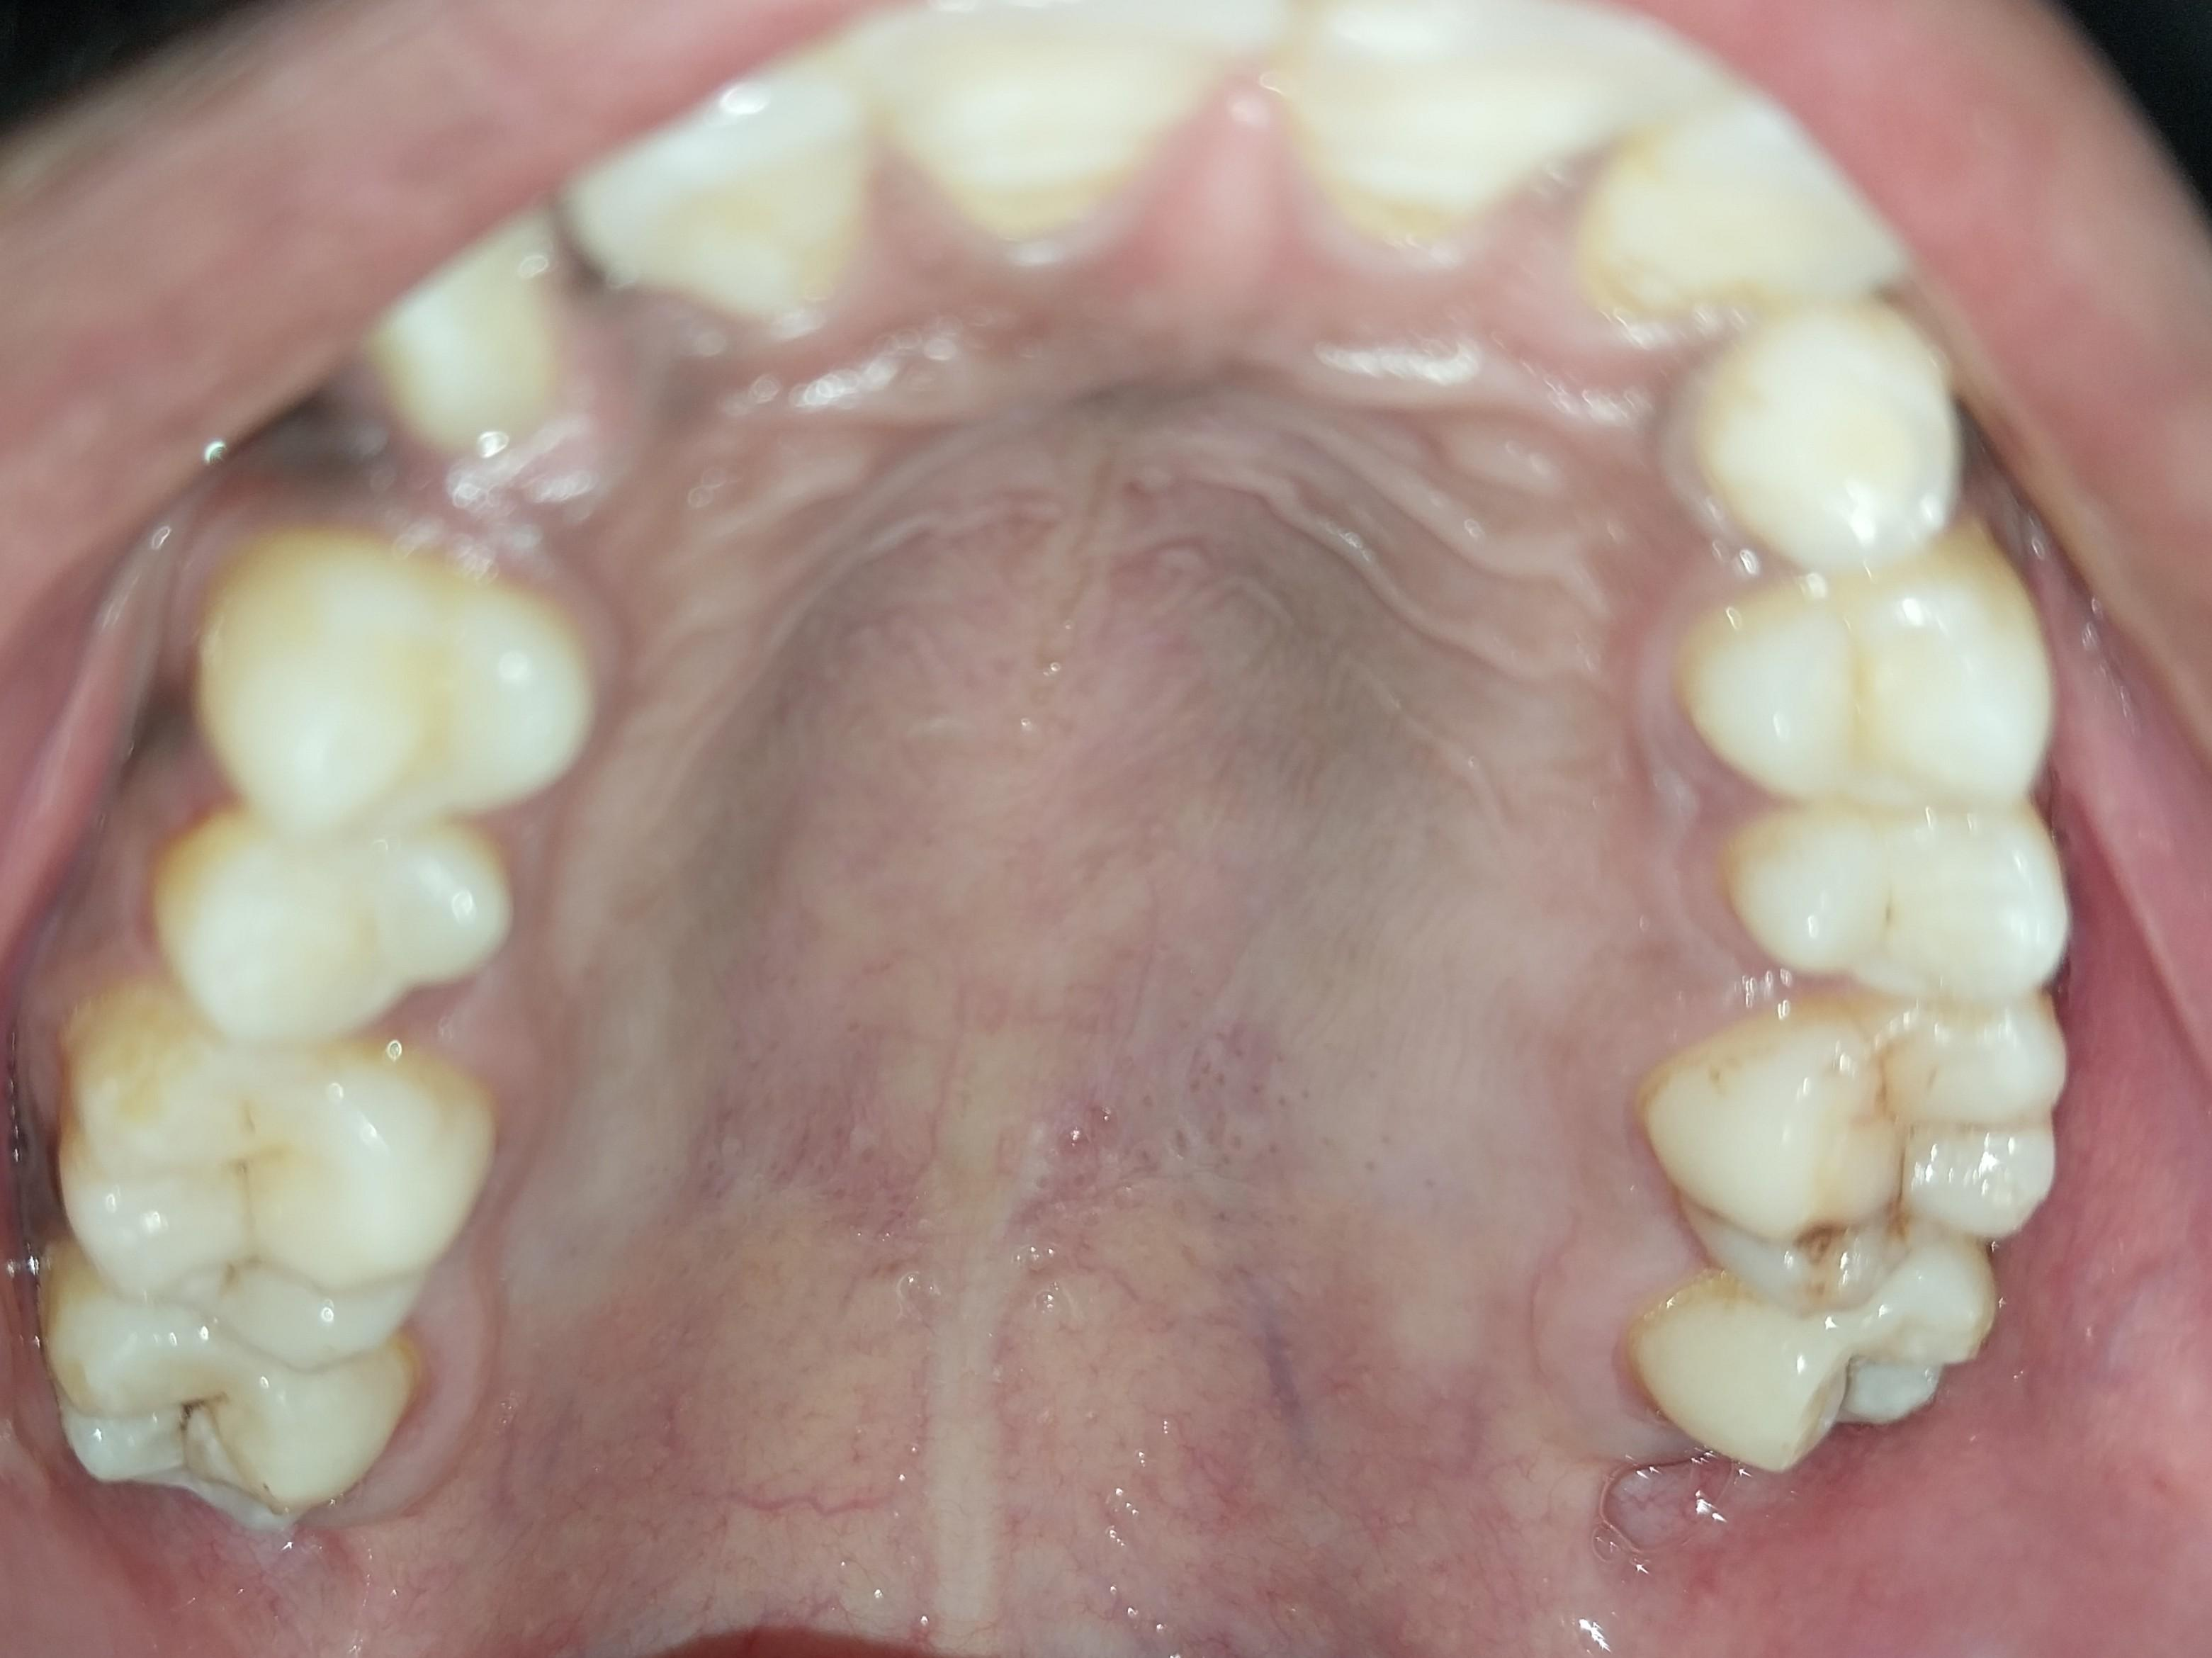D: (1650, 985, 2072, 1319), (26, 1251, 420, 1523), (1655, 1254, 2007, 1481)
